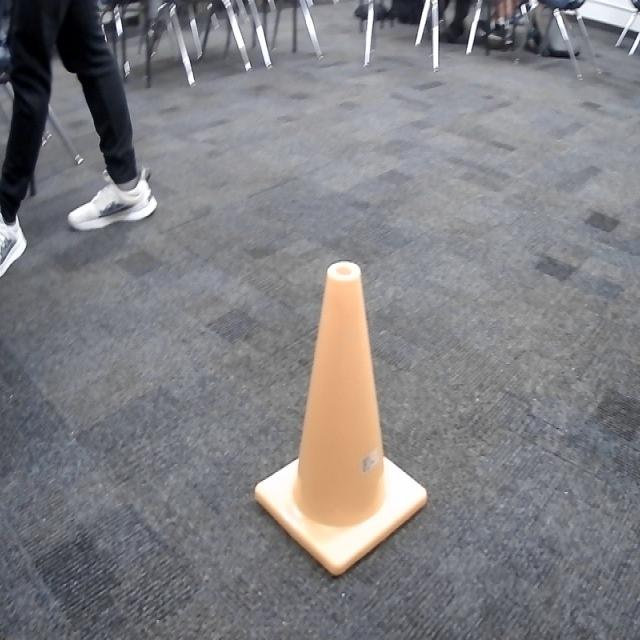cone: (254, 256, 430, 579)
